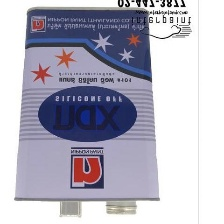cleaning_solution: (9, 3, 164, 218)
